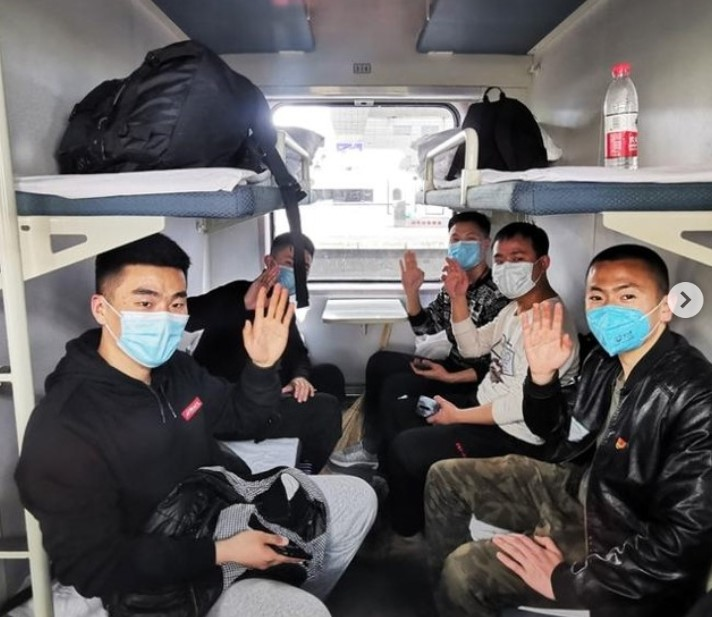face_with_mask: (91, 239, 191, 371), (584, 244, 673, 357), (490, 220, 550, 300), (261, 231, 311, 297), (447, 210, 491, 270)
